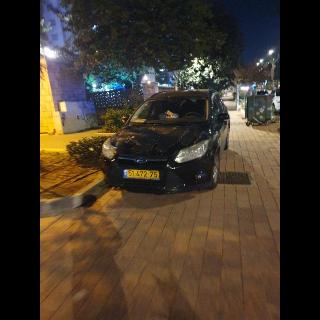LicensePlate: (127, 170, 159, 178)
